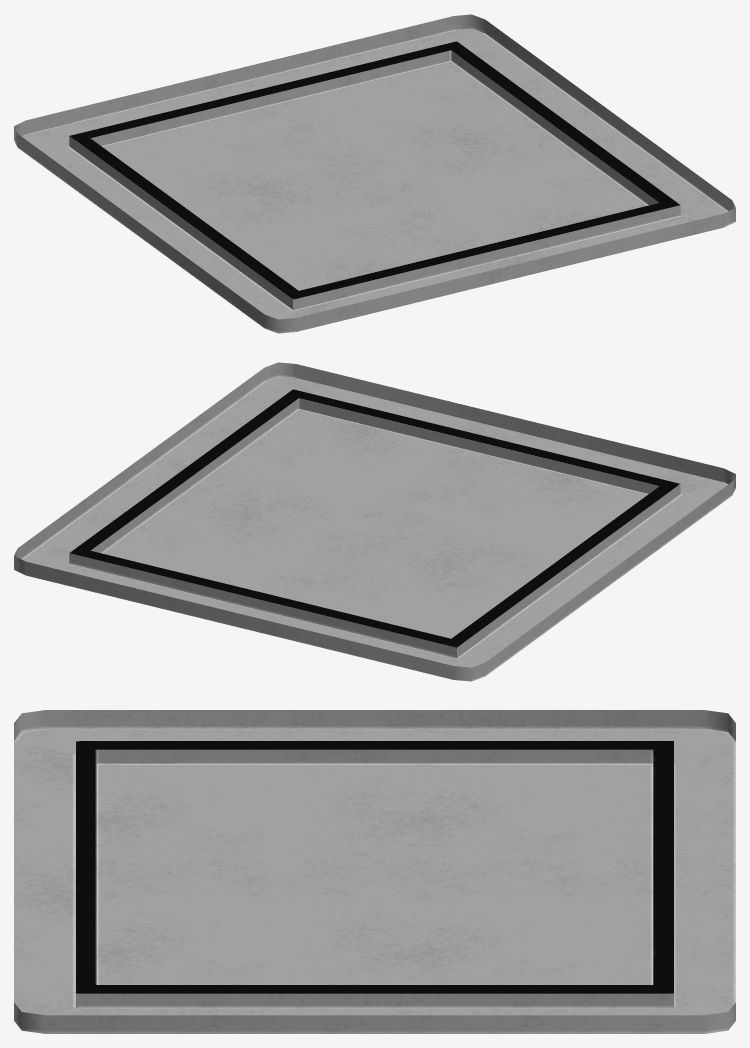
File: SM_CeilingVent_03.fbx
3 views of the same model, one above another, from view 1: azimuth 30°, elevation 25°; view 2: azimuth 150°, elevation 25°; view 3: azimuth 270°, elevation 25° (orthographic). The views are drawn at different scales.
Visible parts, largest first — view 1: SM_CeilingVent_03_LOD0; view 2: SM_CeilingVent_03_LOD0; view 3: SM_CeilingVent_03_LOD0.
Boxes of the visible parts, x1,y1,x2,y2 form: SM_CeilingVent_03_LOD0: (14, 14, 735, 333); SM_CeilingVent_03_LOD0: (14, 362, 735, 681); SM_CeilingVent_03_LOD0: (14, 710, 735, 1033).
Bounding box in the file's own units: 35 × 35 × 1.
1 material, 1 textured.
